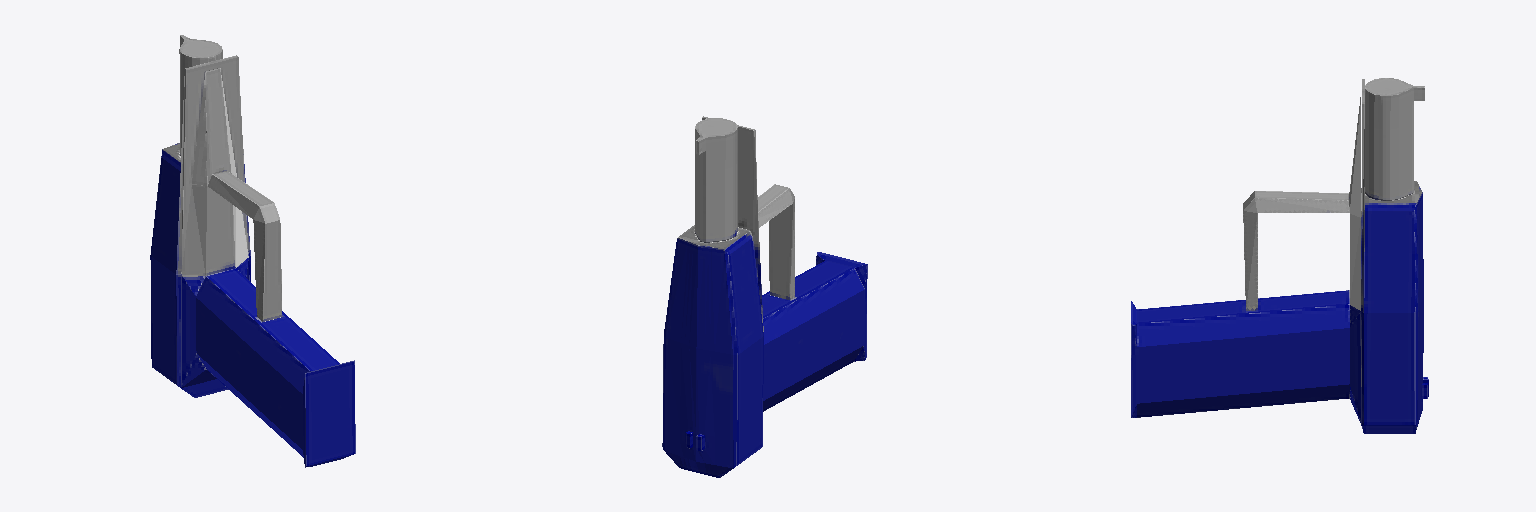
The picture shows the model from 3 angles: view 1: azimuth 30°, elevation 25°; view 2: azimuth 150°, elevation 25°; view 3: azimuth 270°, elevation 25°; orthographic projection.
Visible parts, largest first — view 1: pistola; view 2: pistola; view 3: pistola.
Part boxes in pixels (x1,y1,x2,y2): pistola: (150,35,355,467); pistola: (662,116,867,477); pistola: (1131,78,1428,433).
Bounding box in the file's own units: 0.0761 × 0.3232 × 0.2591.
1 materials, 1 textured.